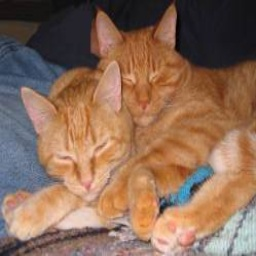cat: (9, 9, 256, 247)
